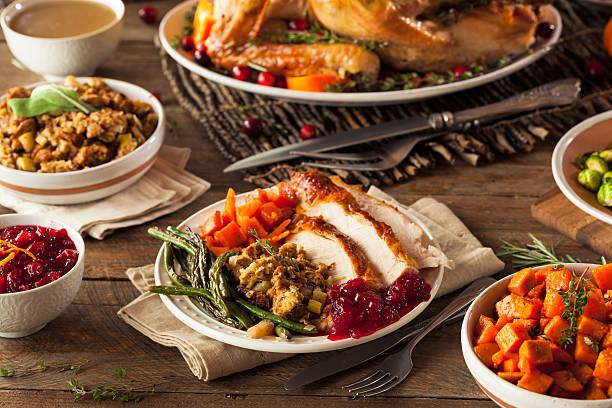Braised Crucian Carp: (156, 188, 441, 353), (163, 0, 558, 105), (2, 76, 164, 205)
